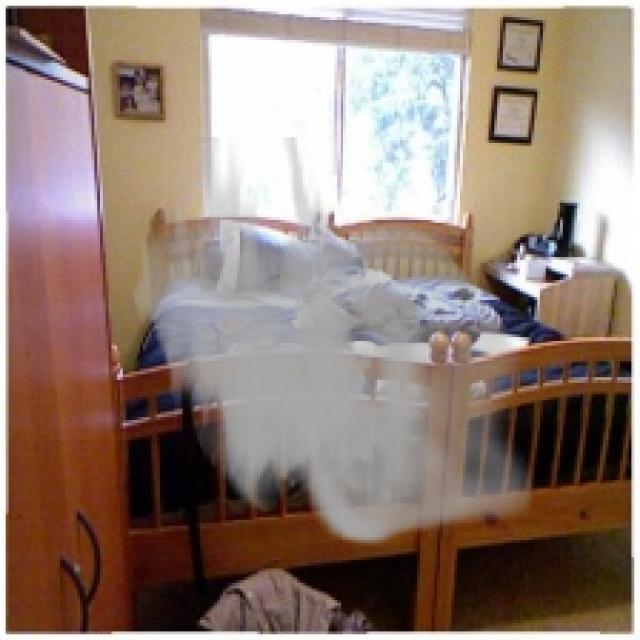Smoke: (128, 137, 534, 546)
